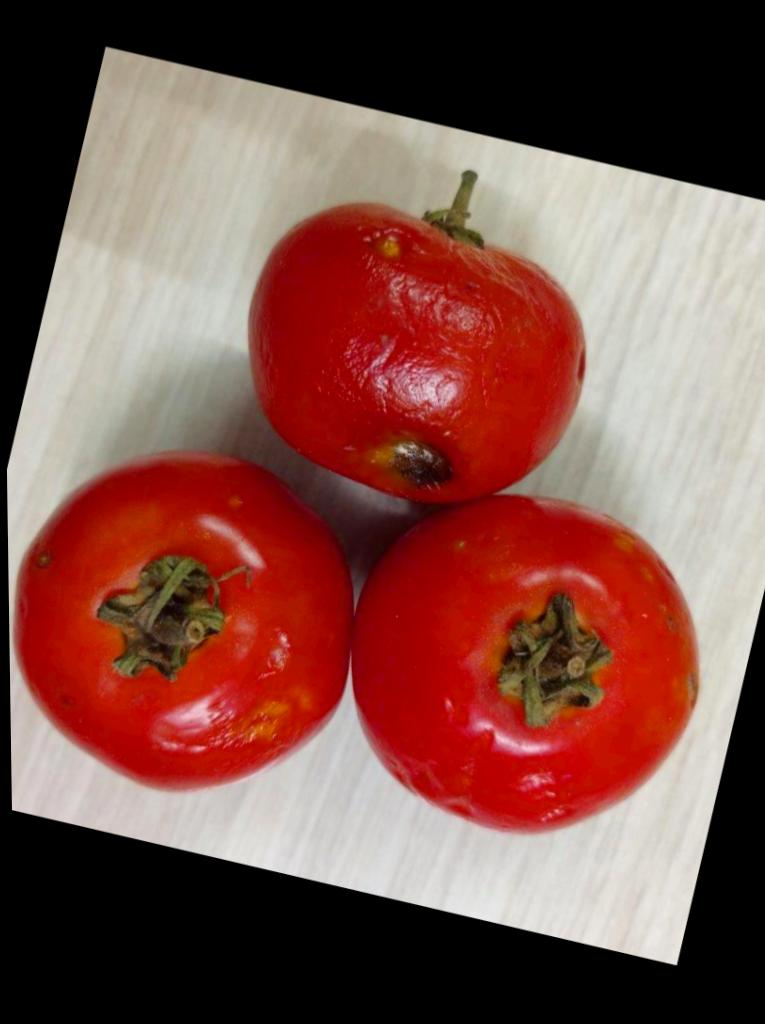bruise_discoloration: (214, 700, 282, 753), (261, 629, 289, 677), (370, 230, 410, 261)
rot_mold_decay: (361, 439, 455, 486)
surface_damage: (34, 550, 54, 570)
tomato: (351, 496, 696, 833), (14, 454, 350, 791), (249, 173, 582, 502)
